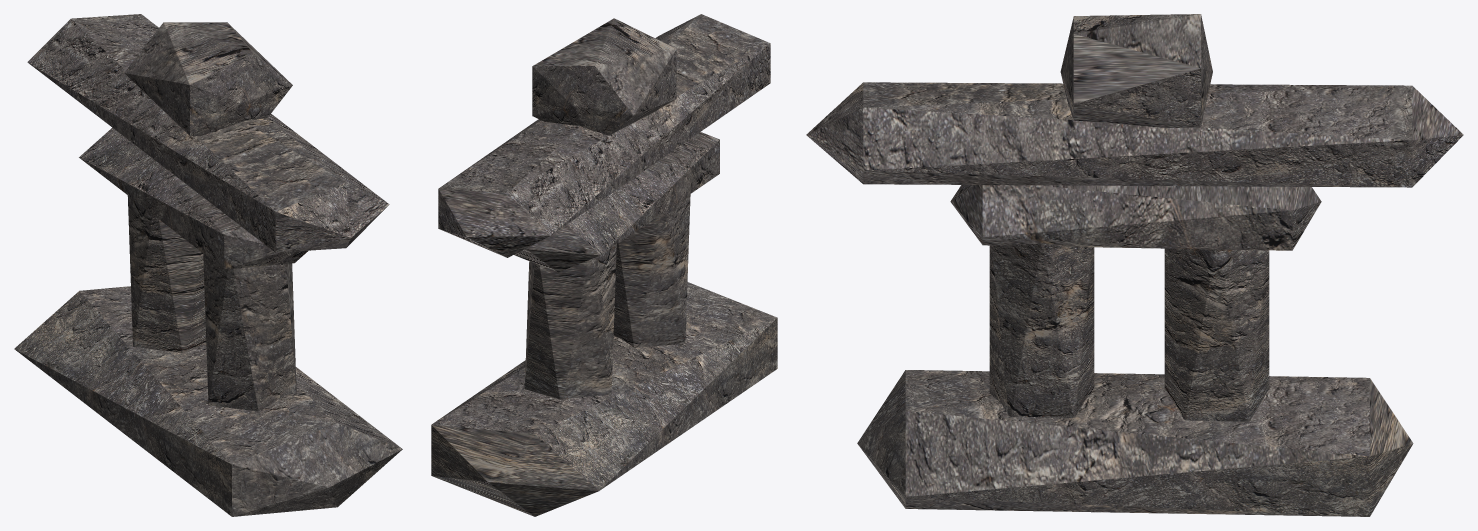
The model's file is stone figure.fbx.
3 renders of one model, left to right at view 1: azimuth 30°, elevation 25°; view 2: azimuth 150°, elevation 25°; view 3: azimuth 270°, elevation 25°, orthographic. The views are drawn at different scales.
Visible parts, largest first — view 1: Icosphere; view 2: Icosphere; view 3: Icosphere.
Boxes of the visible parts, x1=… form: Icosphere: x1=14, y1=14, x2=402, y2=516; Icosphere: x1=431, y1=14, x2=777, y2=516; Icosphere: x1=806, y1=14, x2=1463, y2=516.
Size of the model in its own units: 411 by 838 by 1067.
